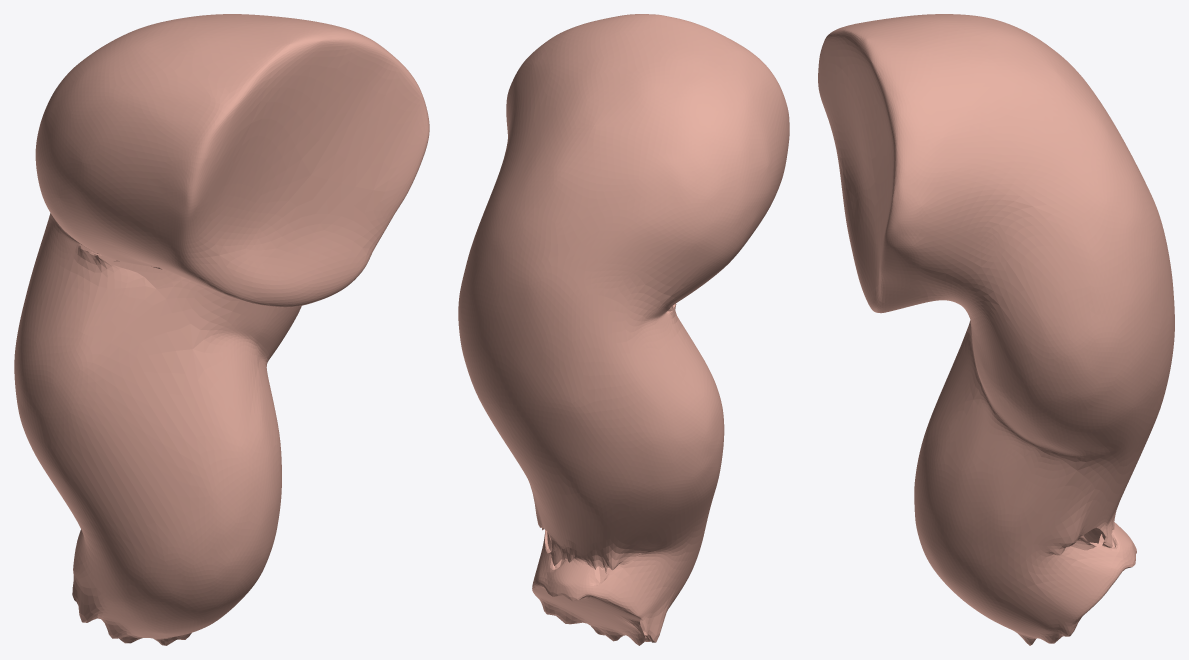
File: retto.glb
The picture shows the model from 3 angles, left to right: view 1: azimuth 30°, elevation 25°; view 2: azimuth 150°, elevation 25°; view 3: azimuth 270°, elevation 25°; orthographic projection. The views are drawn at different scales.
Visible parts, largest first — view 1: rectum; view 2: rectum; view 3: rectum.
Boxes of the visible parts, <box> form: rectum: <box>14,14,429,645</box>; rectum: <box>458,14,789,645</box>; rectum: <box>818,14,1174,645</box>.
Bounding box in the file's own units: 61.4 × 118 × 62.04.
